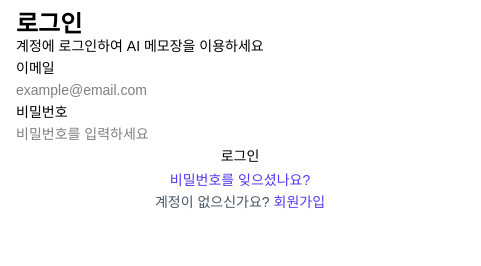
it: LoginForm › 비밀번호 필수 검사가 작동한다
The width and height of the screenshot is (481, 266).
// 빈 비밀번호로 폼 제출
Click the button "로그인".
click(240, 156)  # box [16,146,464,166]
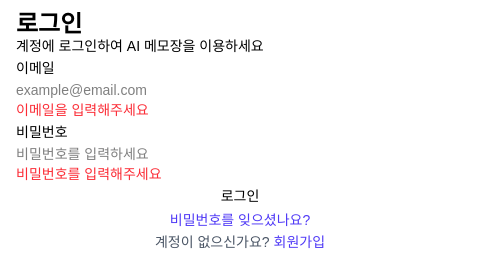
Now the text "비밀번호를 입력해주세요" is shown, box [16,166,162,182]
